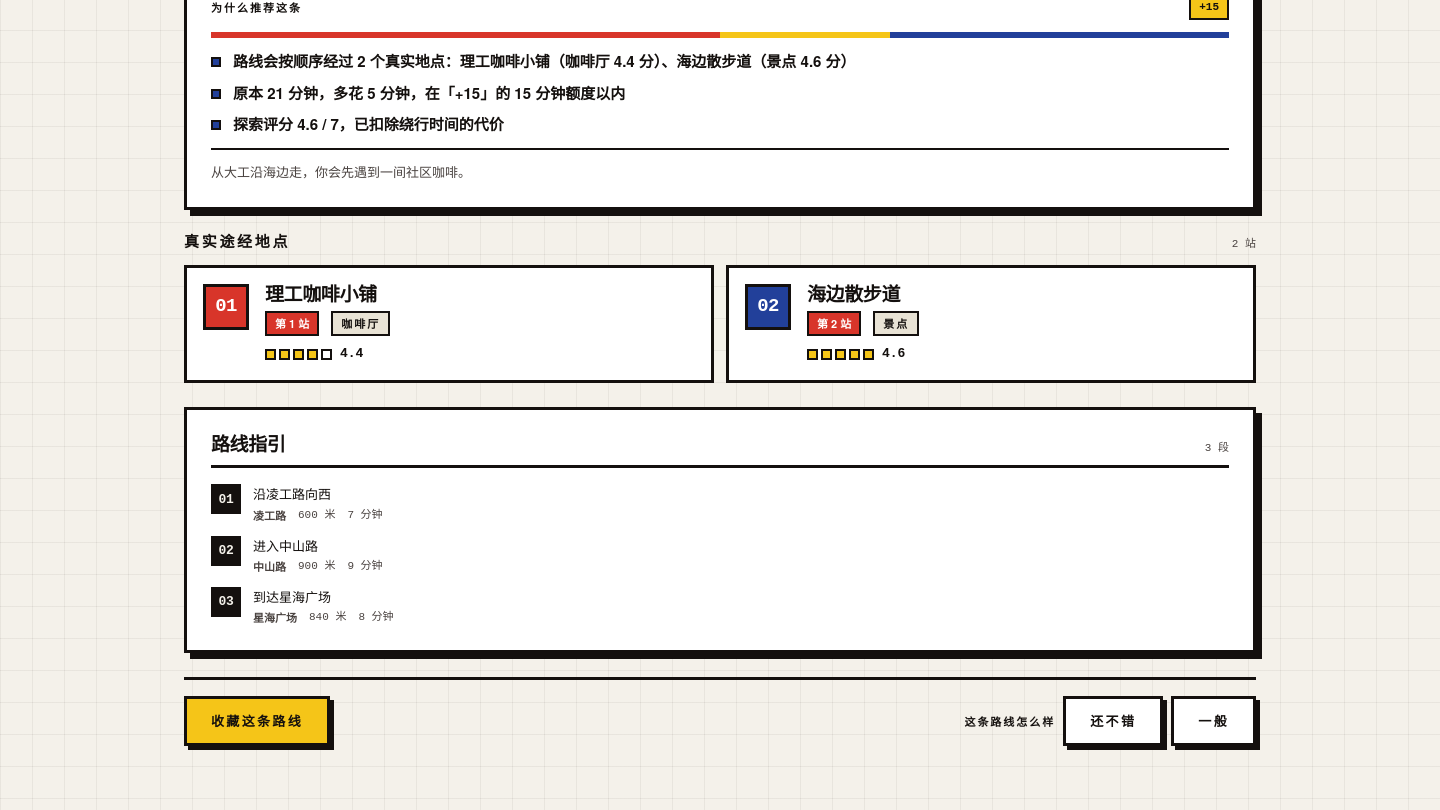
Test: ResultView › says what the feedback actually taught the backend
(page scrolled)
Click the button "还不错": (1113, 721) [1063,696,1163,746]
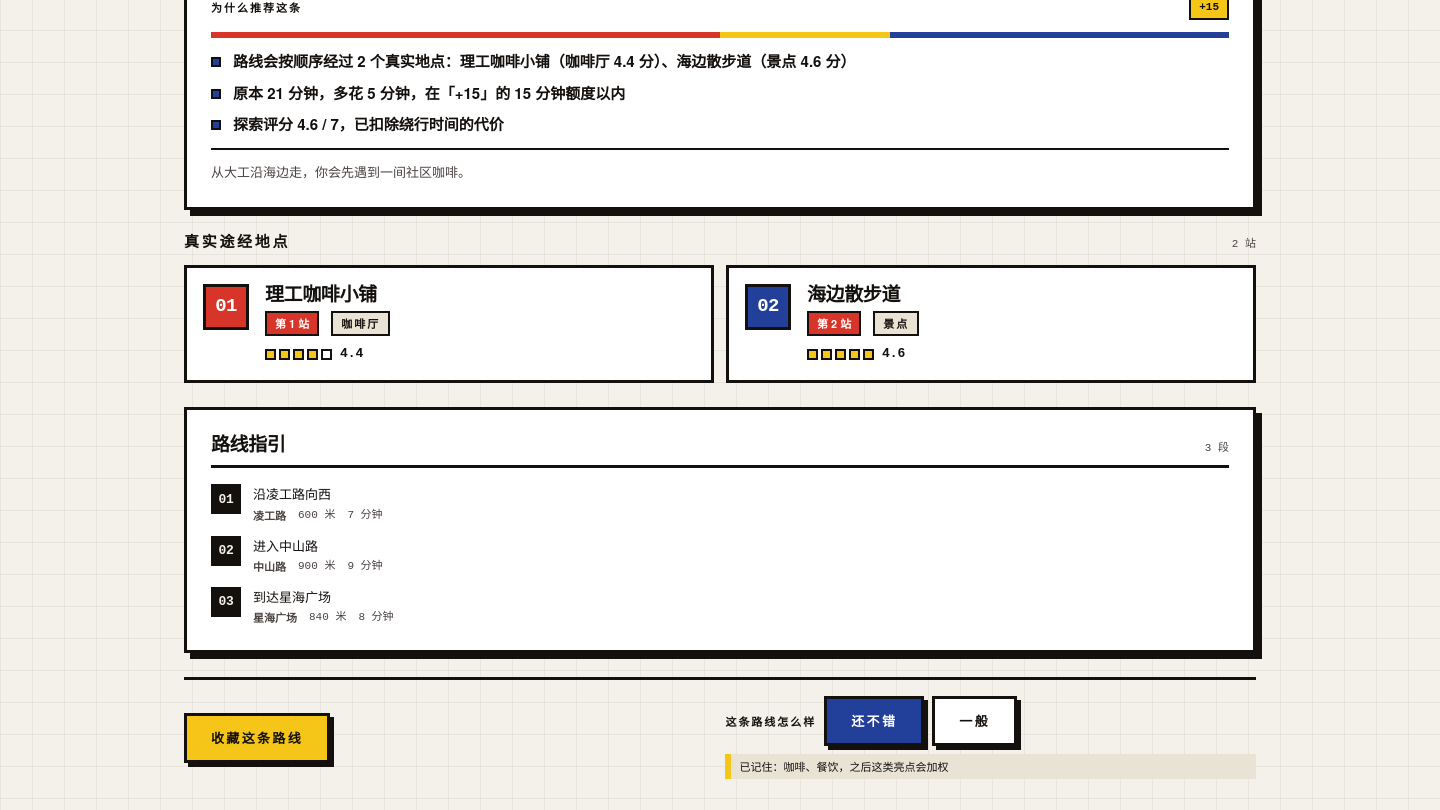
expect the message with class "result__feedback-note" shows "已记住": met, box [739,758,948,774]
expect the message with class "result__feedback-note" shows "咖啡": met, box [739,758,948,774]
expect the message with class "result__feedback-note" shows "加权": met, box [725,754,1256,779]
